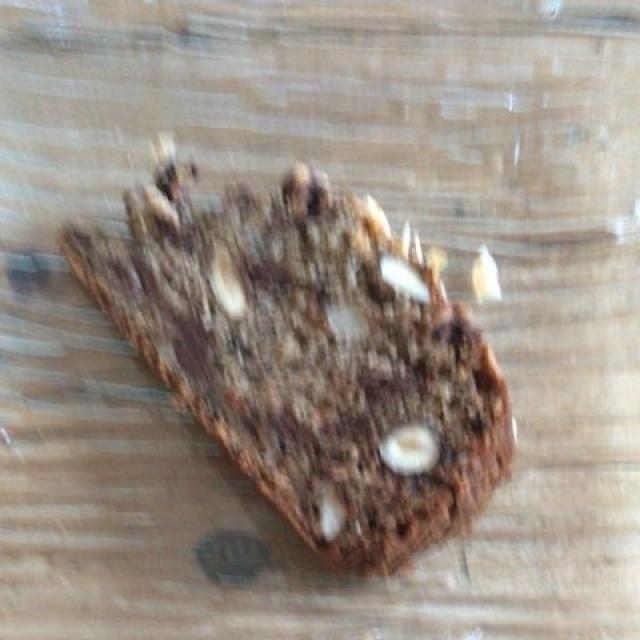cake: (53, 170, 510, 565)
